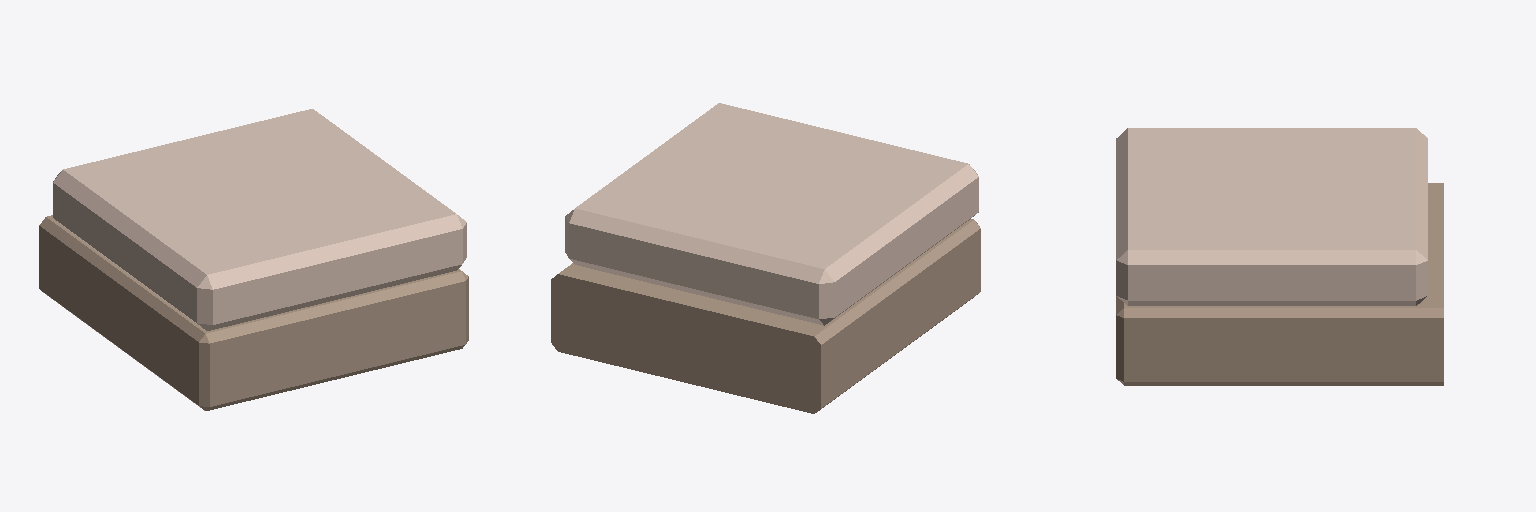
The model's file is Prop_Living_Room_Modular_Couch_Leg_Rest.obj.
The picture shows the model from 3 angles: view 1: azimuth 30°, elevation 25°; view 2: azimuth 150°, elevation 25°; view 3: azimuth 270°, elevation 25°; orthographic projection.
Parts seen in each view (by area): view 1: object2, object1; view 2: object2, object1; view 3: object2, object1.
Boxes of the visible parts, x1,y1,x2,y2 form: object2: [53, 109, 466, 330]; object1: [39, 215, 468, 410]; object2: [565, 103, 978, 325]; object1: [551, 219, 980, 413]; object2: [1116, 128, 1427, 305]; object1: [1116, 183, 1443, 385].
Bounding box in the file's own units: 1 × 0.475 × 1.05.